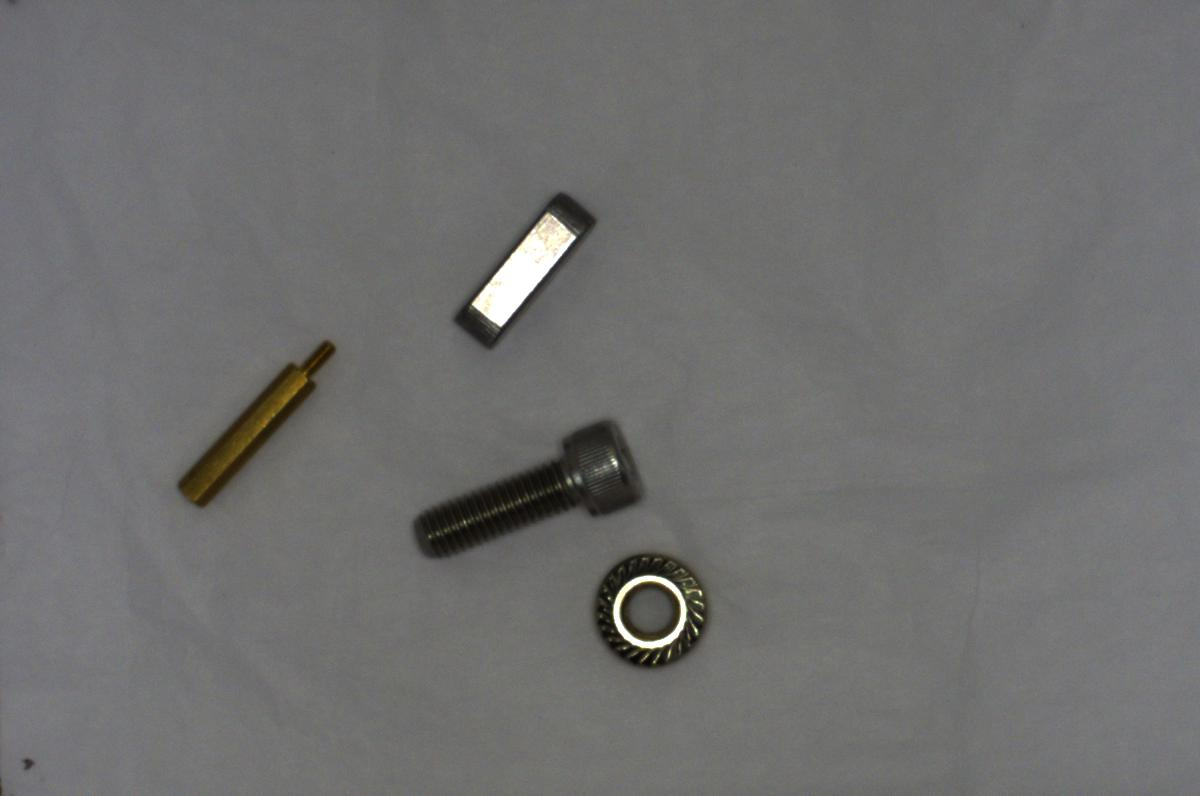Flange nut: (592, 549, 711, 667)
Hexagon pillar: (168, 335, 339, 512)
Hexagon screw: (408, 410, 644, 553)
Keybar: (445, 187, 601, 346)
